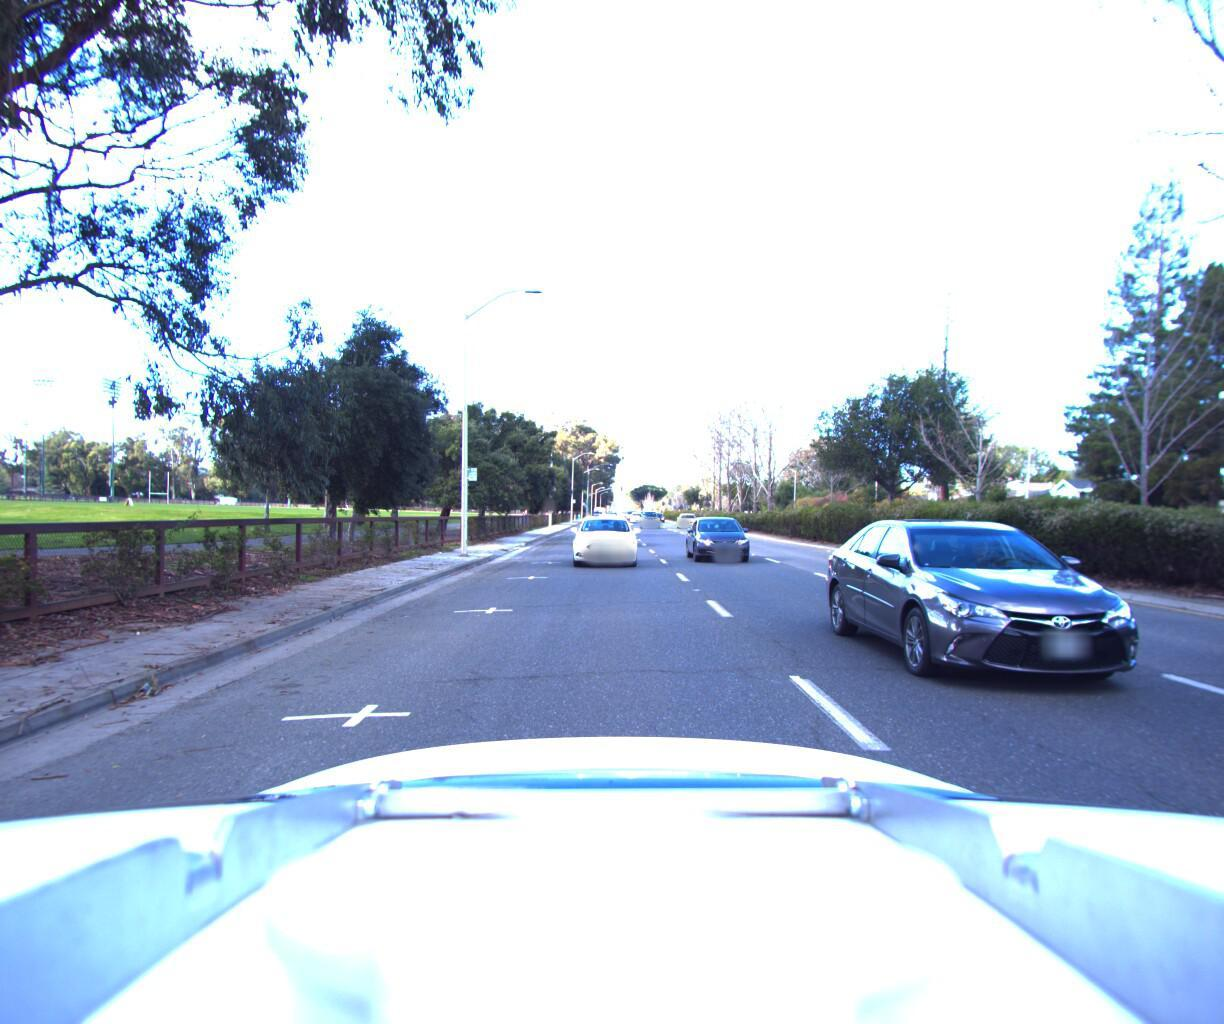car: (843, 500, 1224, 750), (567, 508, 646, 566), (685, 511, 767, 564), (675, 508, 703, 526), (640, 507, 661, 525)
